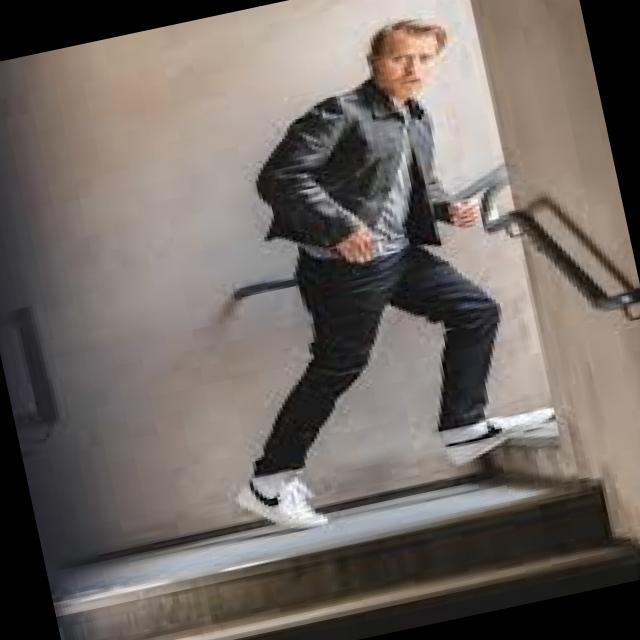Jacket: (216, 58, 494, 304)
